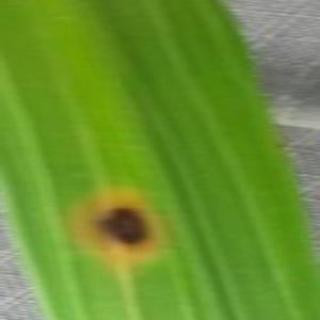bercak-Cokelat: (66, 189, 174, 278)
